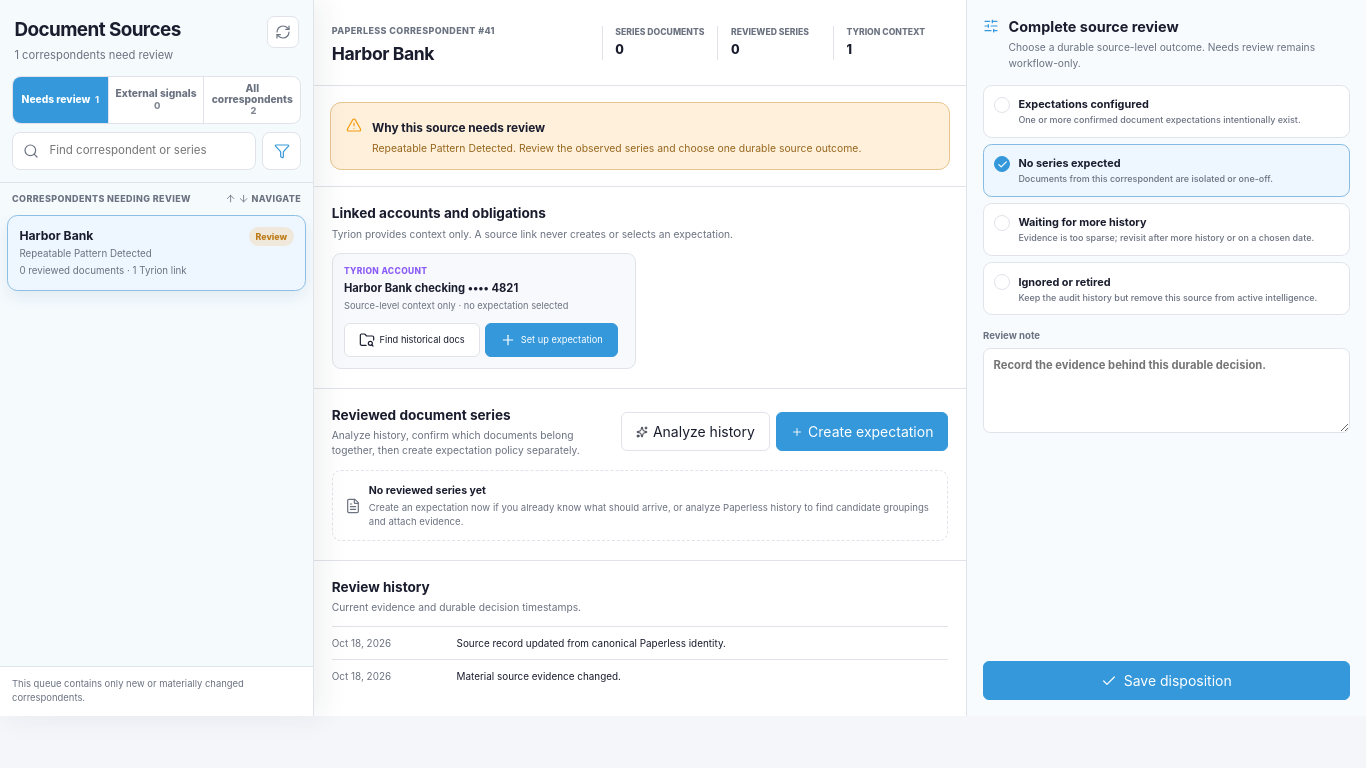
Test case: Document Sources › offers expectation setup and targeted history analysis for each linked Tyrion account
The width and height of the screenshot is (1366, 768).
Expected: the heading "Harbor Bank" is shown, [332, 43, 434, 64]
Expected: the button "Set up expectation" is enabled, [485, 323, 618, 357]
Click the button "Find historical docs": (412, 340) [344, 323, 480, 357]
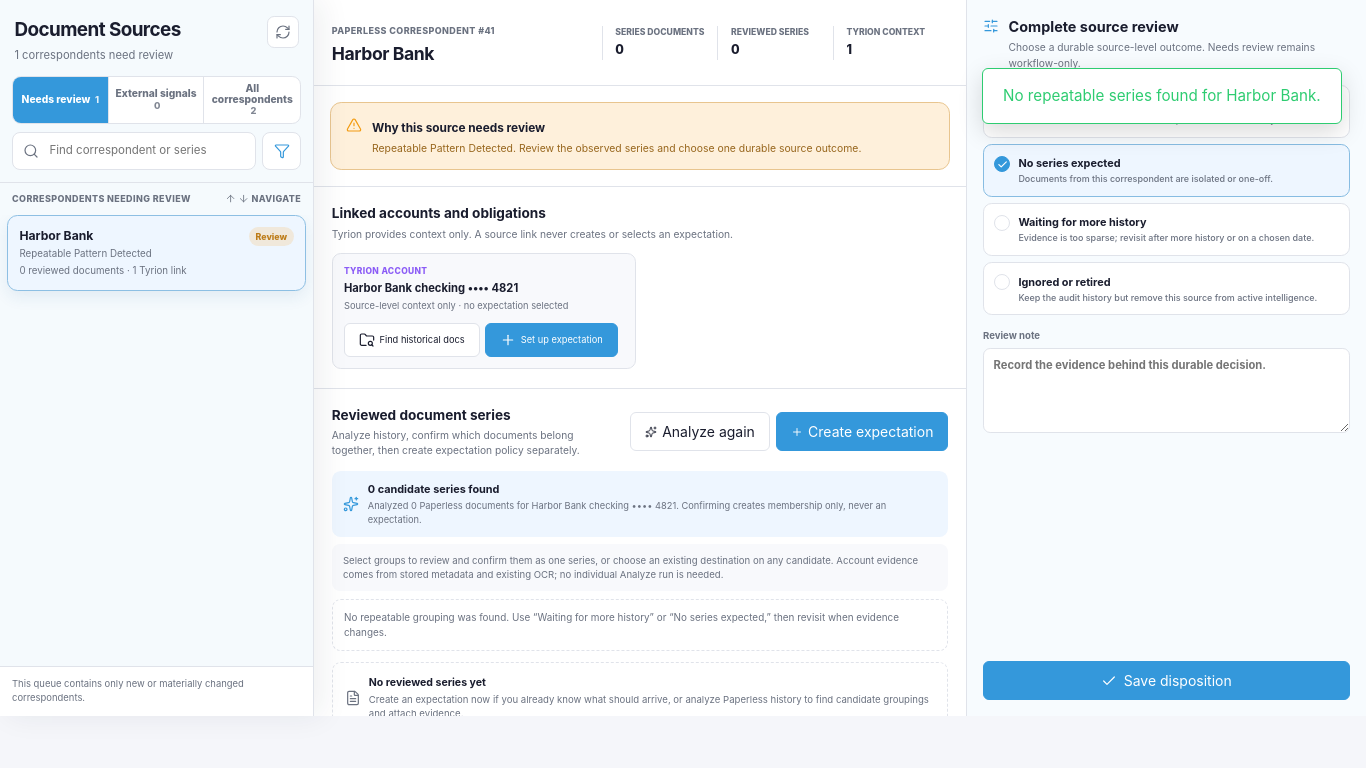
Now the text "Analyzed 0 Paperless documents for Harbor Bank checking" is shown, box [368, 499, 937, 527]
